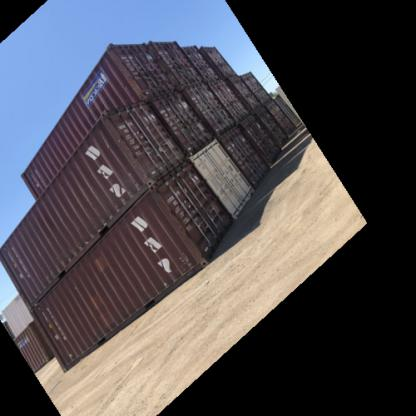Damage: (167, 202, 202, 249)
